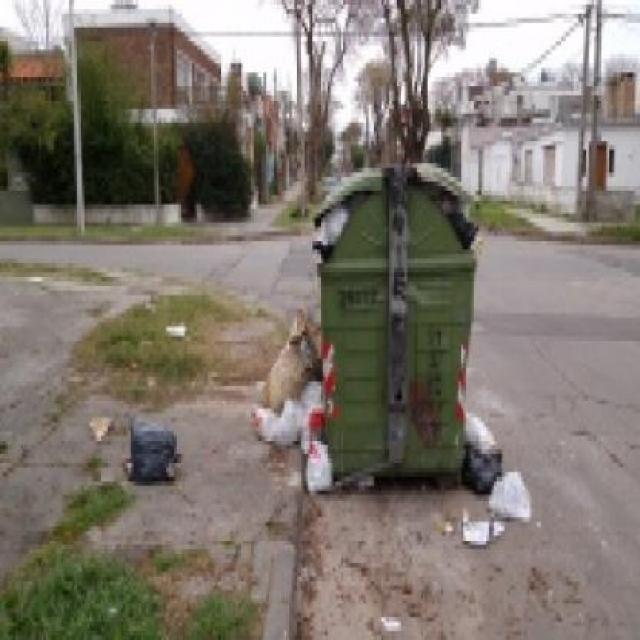garbage: (251, 305, 320, 487), (454, 396, 531, 555), (116, 405, 180, 487)
